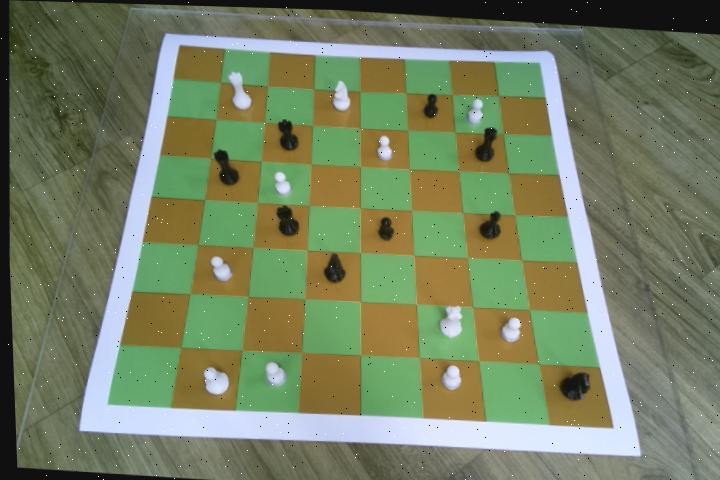chessboard-detect: (102, 42, 611, 424)
